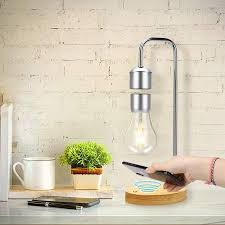bulb: (118, 96, 168, 156)
